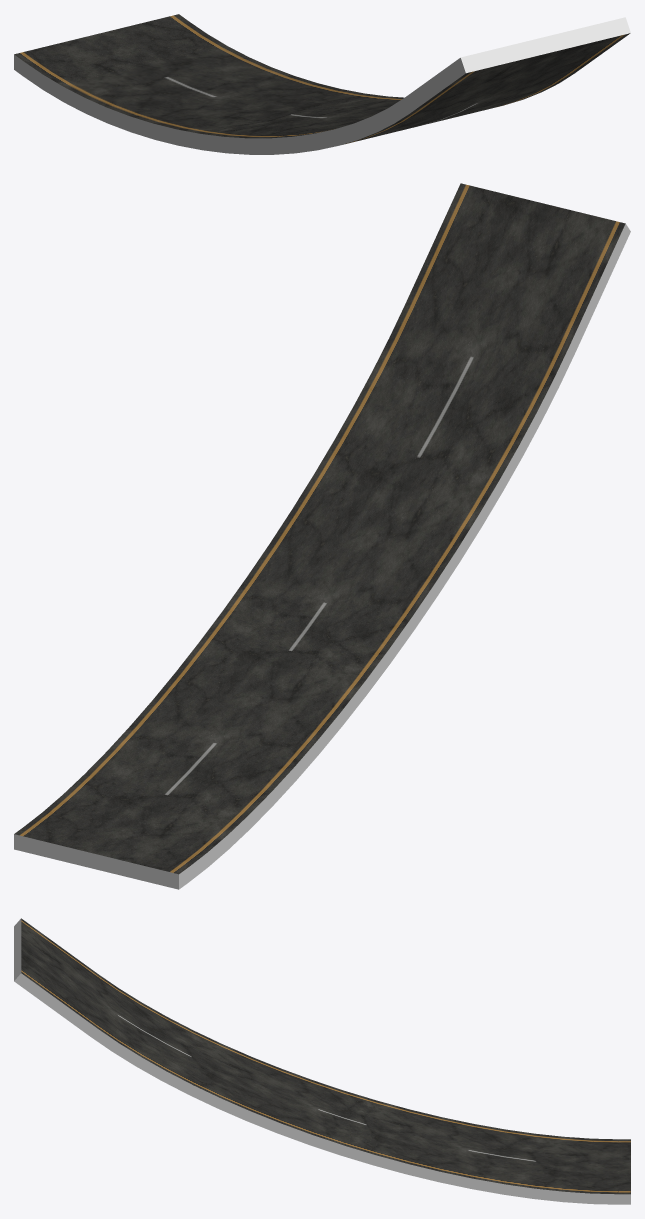
File: ramp.fbx
3 renders of one model, top to bottom at view 1: azimuth 30°, elevation 25°; view 2: azimuth 150°, elevation 25°; view 3: azimuth 270°, elevation 25°, orthographic. The views are drawn at different scales.
Parts seen in each view (by area): view 1: ramp; view 2: ramp; view 3: ramp.
Boxes of the visible parts, box(x1,y1,x2,y2) form: ramp: box(14, 14, 630, 154); ramp: box(14, 183, 630, 889); ramp: box(14, 918, 630, 1204).
Size of the model in its own units: 10.66 by 20.95 by 50.59.
